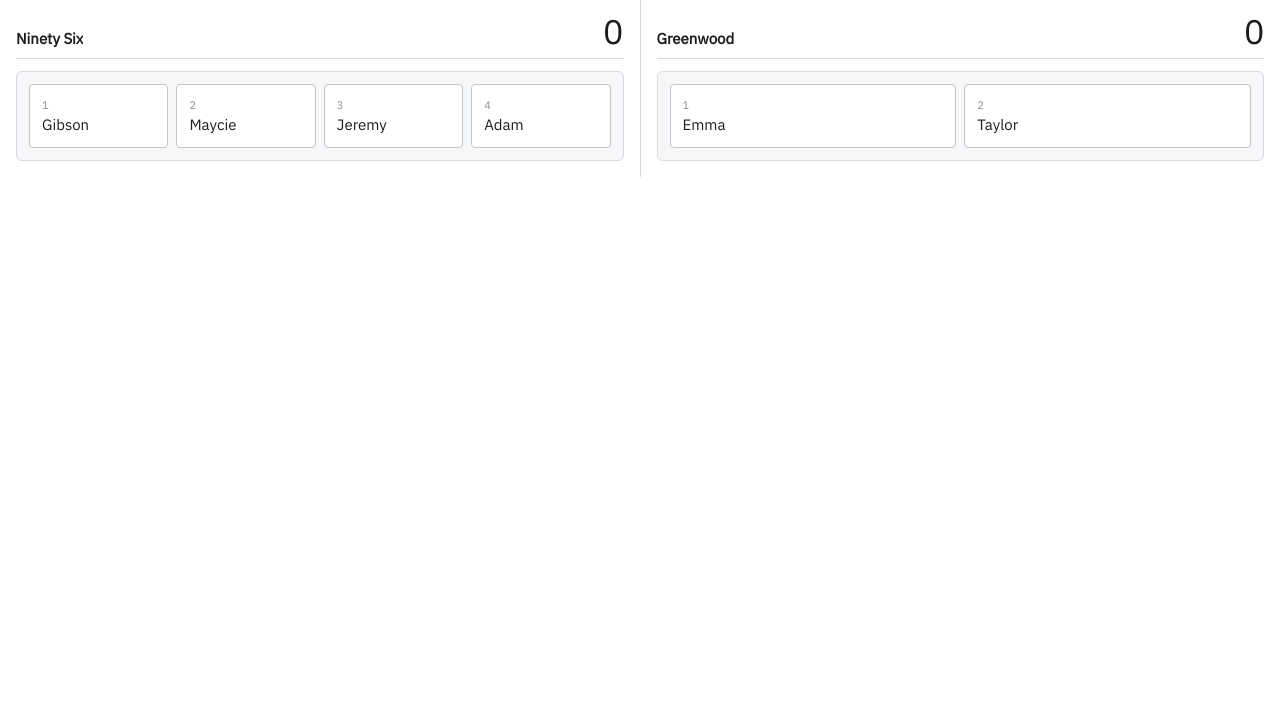
Test case: the ruling picker › it opens against the chair that was pressed, and there is only ever one
This screenshot has width=1280, height=720.
Click the button "2 Maycie" at (246, 116), box [176,84,316,148]
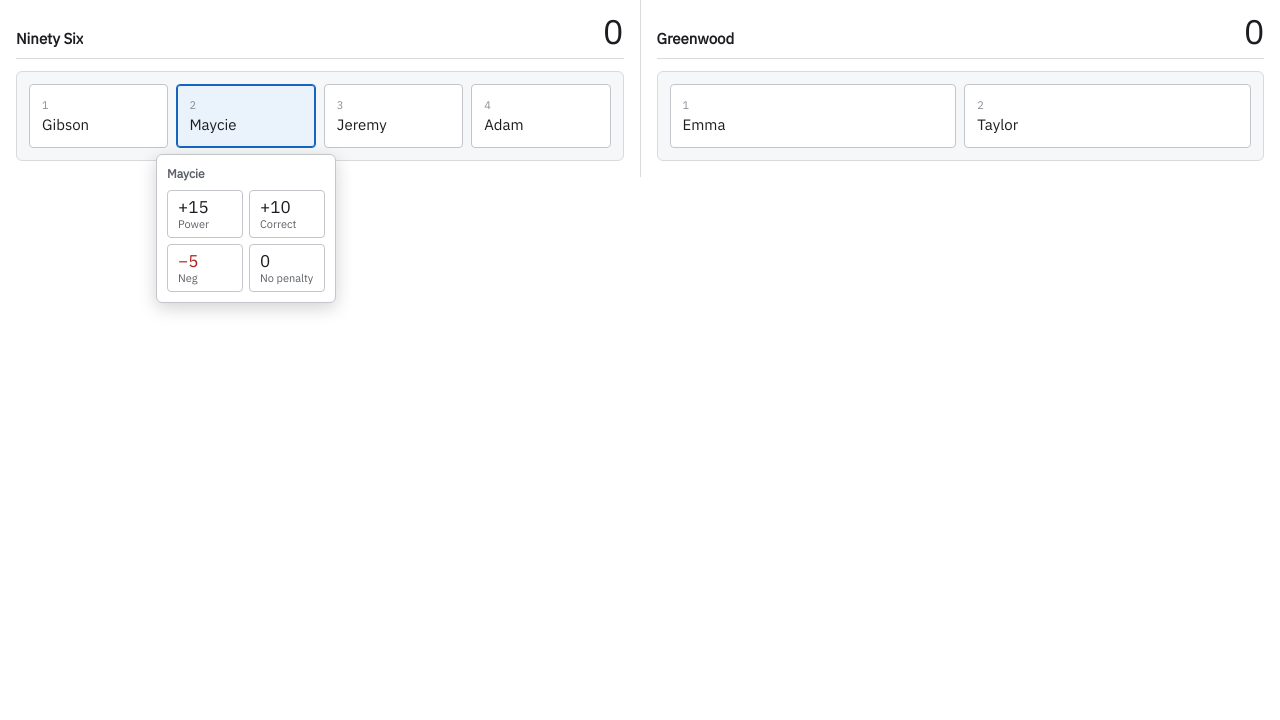
Now the number of dialogs is 1, box [156,154,336,303]
